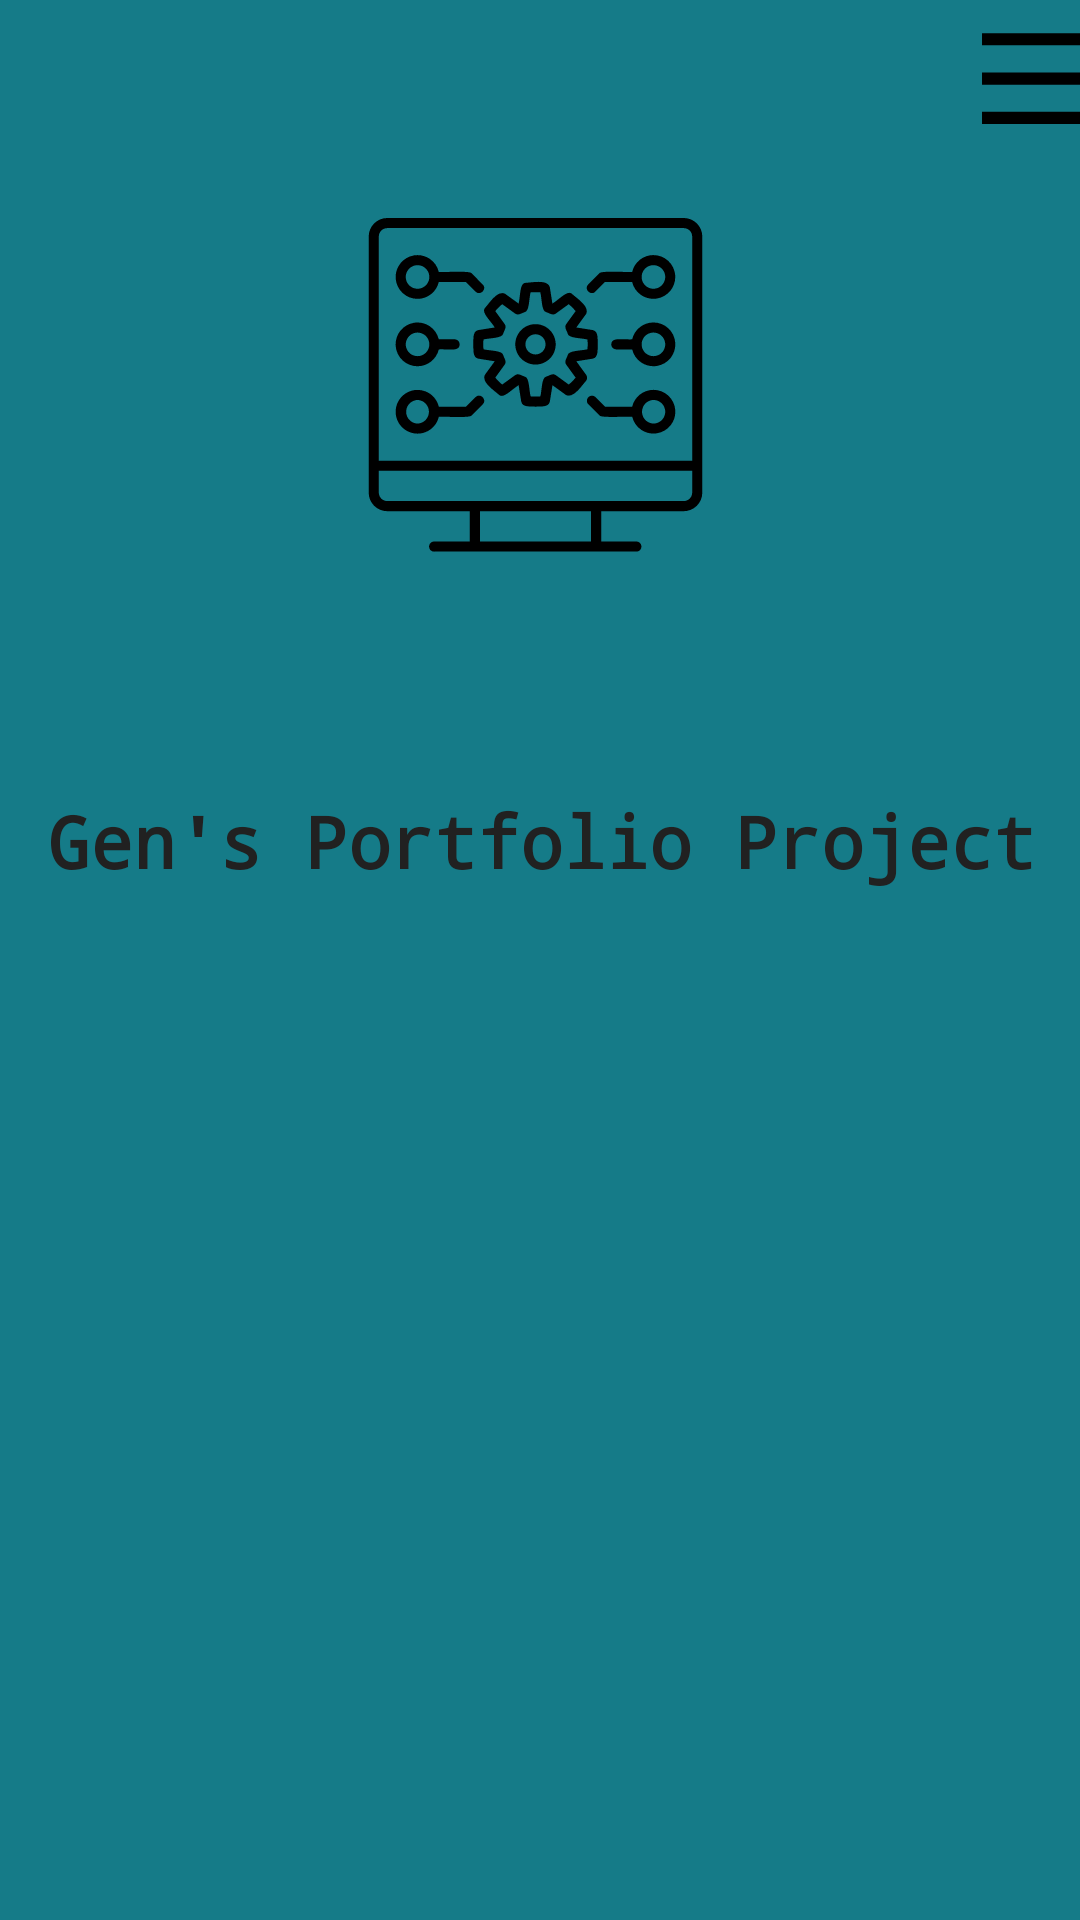

Named icons in this screenshot (1080*1920) and their centers, point (x, y):
noun software: point (535, 385)
